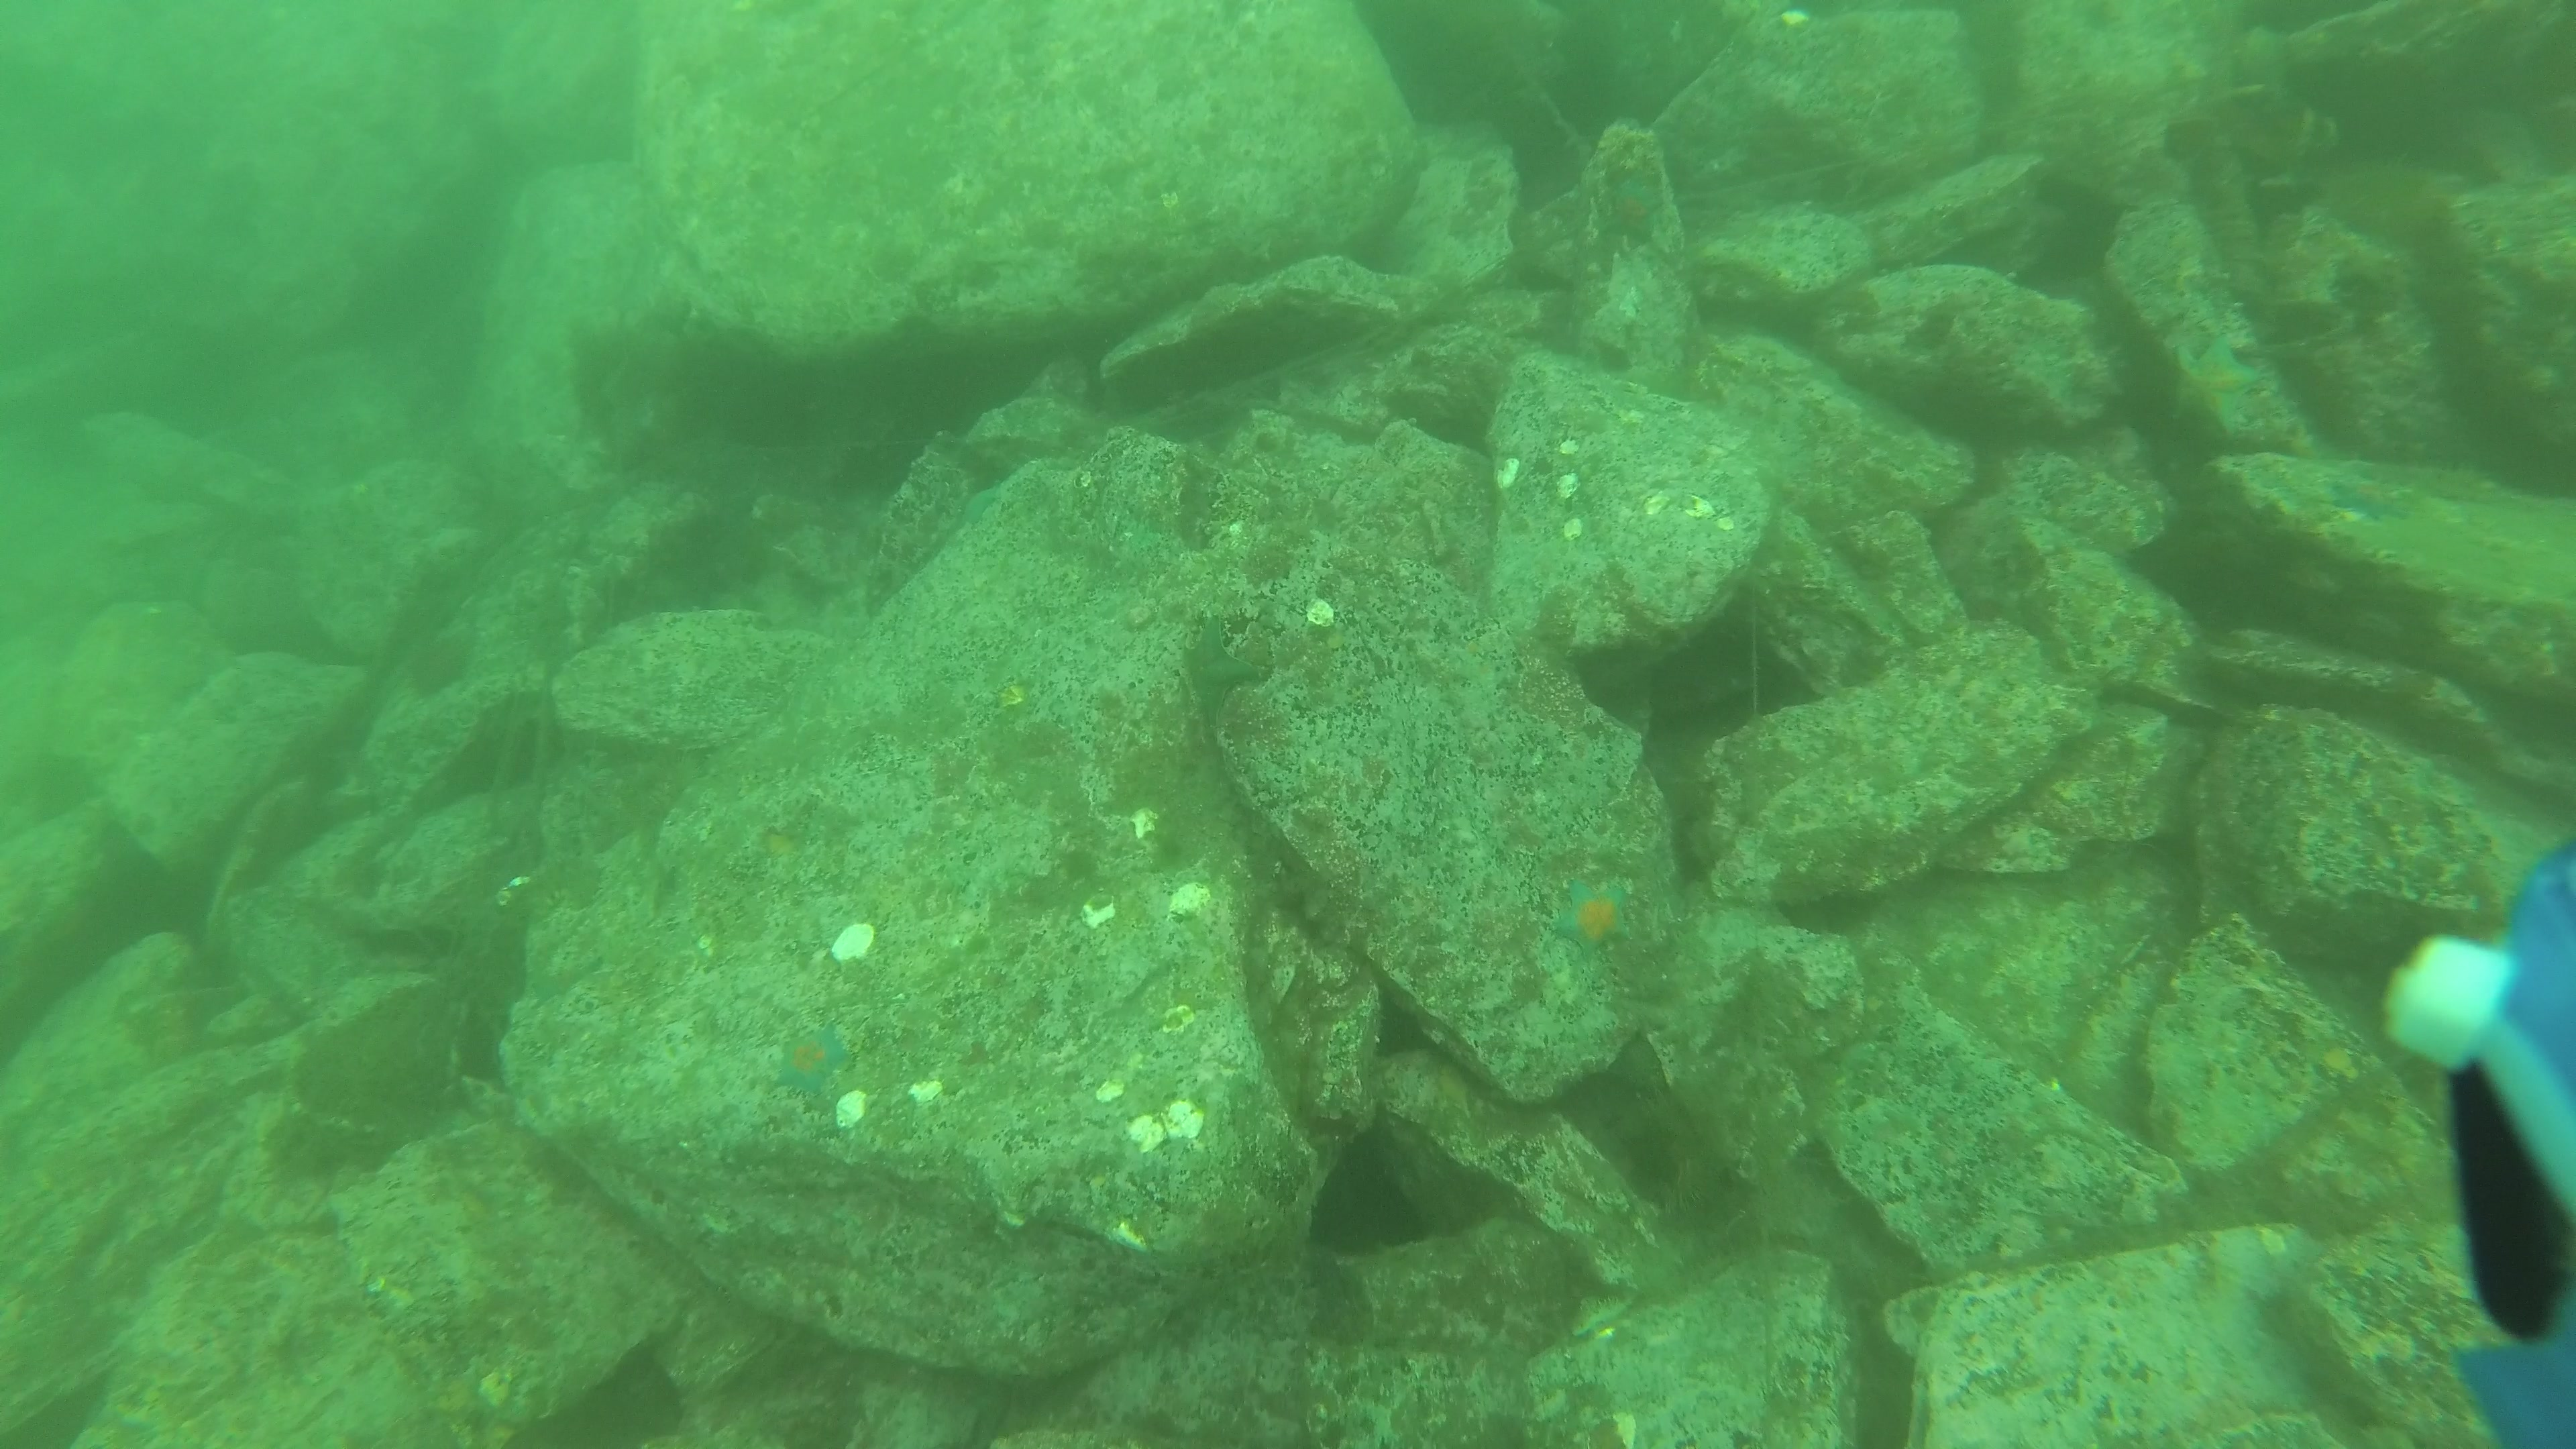starfish: (2166, 324, 2265, 446), (1550, 867, 1640, 964), (2321, 458, 2422, 525), (771, 1019, 858, 1097), (1605, 177, 1668, 248)
